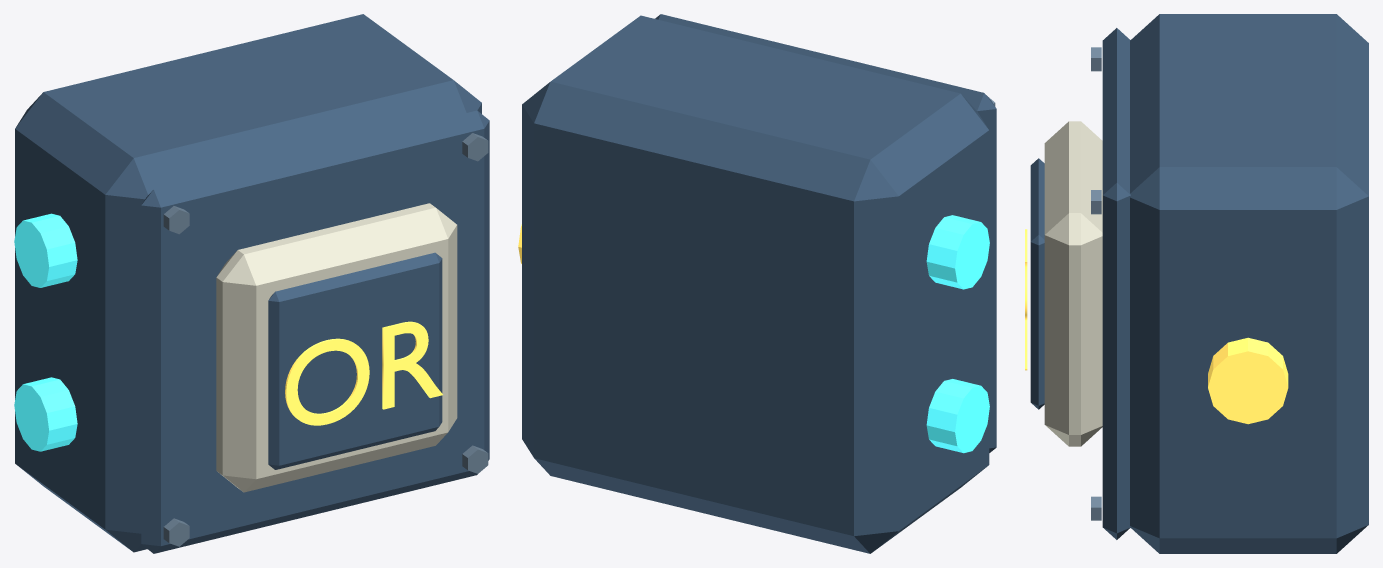
File: or_gate.glb
The picture shows the model from 3 angles, left to right: view 1: azimuth 30°, elevation 25°; view 2: azimuth 150°, elevation 25°; view 3: azimuth 270°, elevation 25°; orthographic projection.
Parts seen in each view (by area): view 1: Structural core.013, Front armor.013, Logic chip.001, Chip inset.001, Logic glyph.001, Input signal.003, Input signal.002, Rivet.061, Rivet.060, Rivet.063, Rivet.062; view 2: Structural core.013, Front armor.013, Input signal.003, Input signal.002; view 3: Structural core.013, Logic chip.001, Front armor.013, Output signal.001, Chip inset.001, Logic glyph.001.
Part boxes in pixels (x1=…): Structural core.013: x1=15, y1=14, x2=481, y2=552; Front armor.013: x1=141, y1=110, x2=489, y2=553; Logic chip.001: x1=216, y1=203, x2=457, y2=492; Chip inset.001: x1=268, y1=252, x2=442, y2=469; Logic glyph.001: x1=285, y1=321, x2=442, y2=425; Input signal.003: x1=14, y1=213, x2=77, y2=287; Input signal.002: x1=14, y1=377, x2=77, y2=451; Rivet.061: x1=163, y1=206, x2=189, y2=234; Rivet.060: x1=163, y1=518, x2=189, y2=546; Rivet.063: x1=462, y1=133, x2=488, y2=161; Rivet.062: x1=462, y1=445, x2=488, y2=473; Structural core.013: x1=522, y1=15, x2=989, y2=553; Front armor.013: x1=655, y1=14, x2=996, y2=452; Input signal.003: x1=926, y1=215, x2=989, y2=289; Input signal.002: x1=926, y1=379, x2=989, y2=453; Structural core.013: x1=1130, y1=14, x2=1368, y2=553; Logic chip.001: x1=1044, y1=121, x2=1102, y2=446; Front armor.013: x1=1102, y1=28, x2=1130, y2=539; Output signal.001: x1=1208, y1=337, x2=1288, y2=424; Chip inset.001: x1=1030, y1=158, x2=1044, y2=409; Logic glyph.001: x1=1025, y1=229, x2=1027, y2=370.
Bounding box in the file's own units: 1.22 × 1.06 × 0.854.
